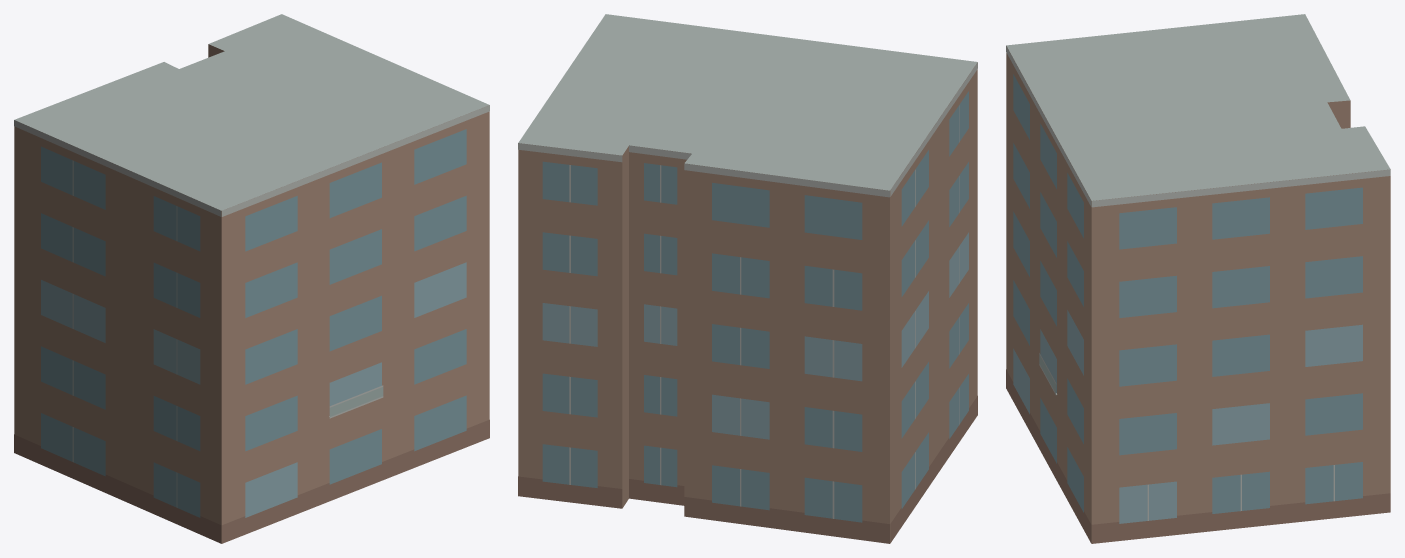
Rendered from survey-upis-32746381.glb.
The picture shows the model from 3 angles, left to right: view 1: azimuth 30°, elevation 25°; view 2: azimuth 150°, elevation 25°; view 3: azimuth 270°, elevation 25°; orthographic projection. The views are drawn at different scales.
Parts seen in each view (by area): view 1: survey-upis-32746381.tmp; view 2: survey-upis-32746381.tmp; view 3: survey-upis-32746381.tmp.
Part boxes in pixels (bbox=[...]): survey-upis-32746381.tmp: bbox=[14, 14, 489, 543]; survey-upis-32746381.tmp: bbox=[518, 14, 977, 543]; survey-upis-32746381.tmp: bbox=[1006, 14, 1390, 543].
Bounding box in the file's own units: 14.97 × 12.8 × 13.02.
